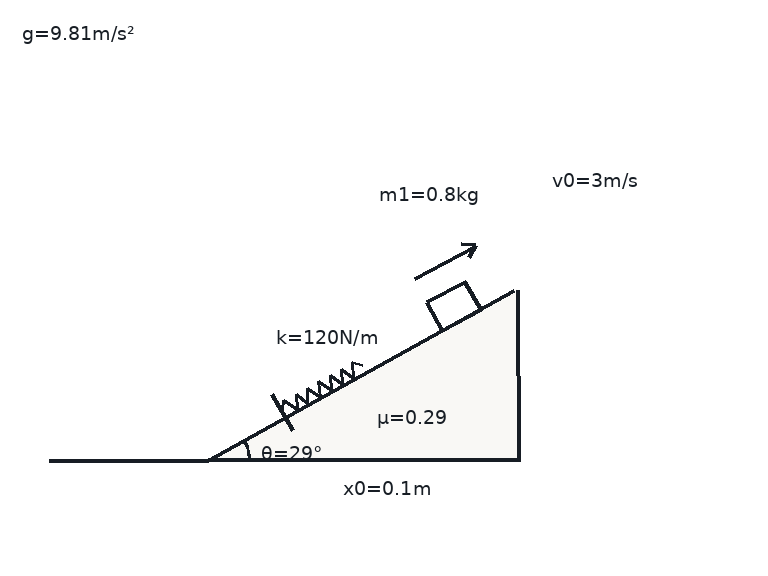block: (425, 279, 483, 333)
ramp: (207, 287, 519, 462)
spring: (280, 360, 364, 411)
